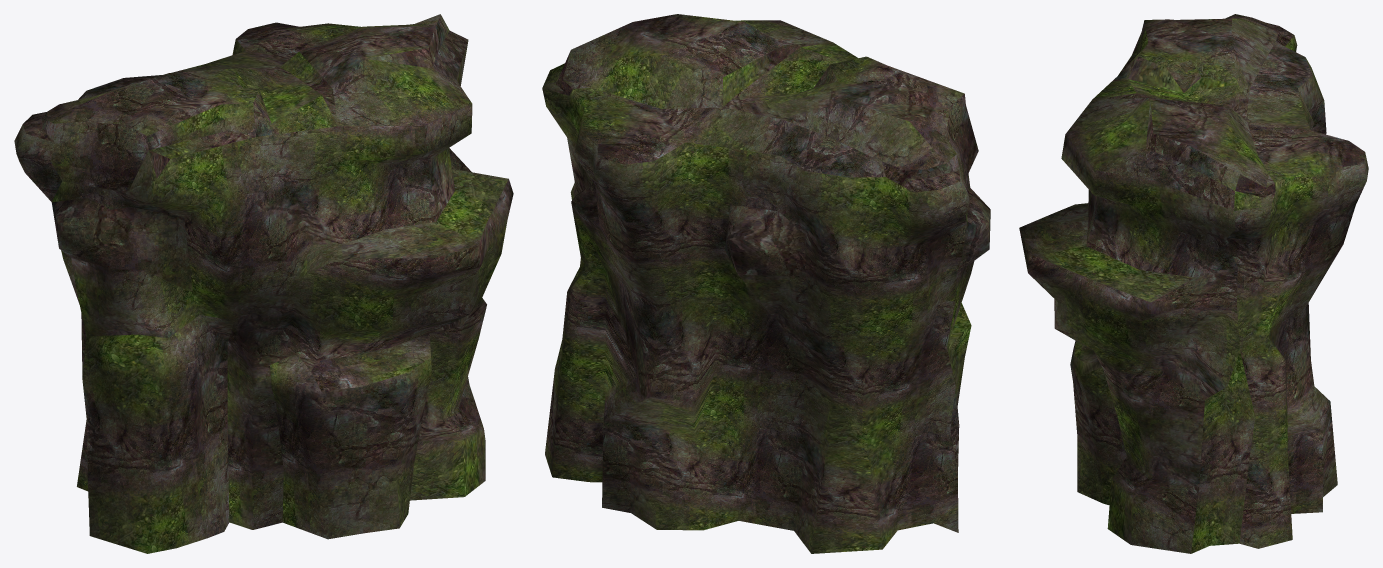
File: S_Rock_Green029.FBX
The picture shows the model from 3 angles, left to right: view 1: azimuth 30°, elevation 25°; view 2: azimuth 150°, elevation 25°; view 3: azimuth 270°, elevation 25°; orthographic projection. The views are drawn at different scales.
Parts seen in each view (by area): view 1: S_Rock_Green029; view 2: S_Rock_Green029; view 3: S_Rock_Green029.
Boxes of the visible parts, <box> form: S_Rock_Green029: <box>14,14,513,553</box>; S_Rock_Green029: <box>542,14,990,553</box>; S_Rock_Green029: <box>1019,14,1368,553</box>.
Bounding box in the file's own units: 936 × 715 × 919.
